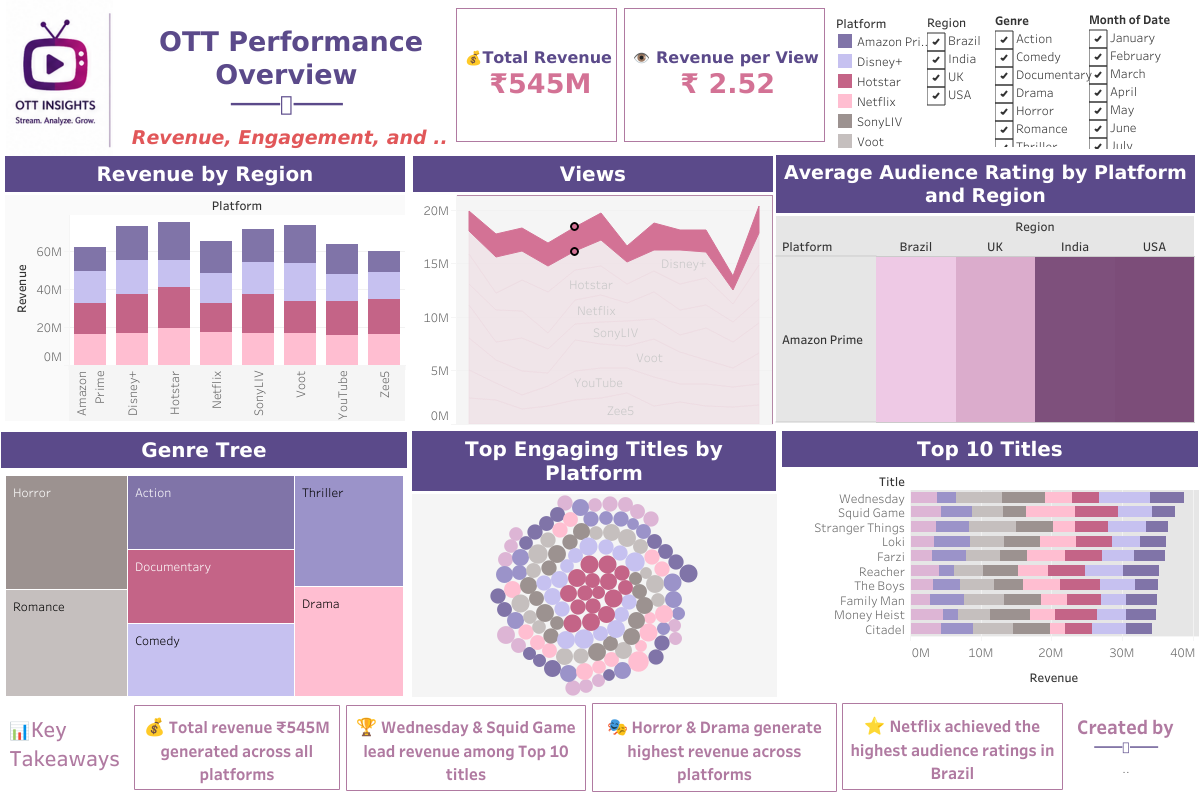

The dashboard page shown, as its layout file describes it:
{"tool":"tableau","page":{"name":"Dashboard 1","canvas":[1000,1000],"units":"permille","ordinal":0},"visuals":[{"type":"text","box":[1.8,6.2,266.4,201.2]},{"type":"filter","title":"Views","param":"[federated.07yf63z0haxw3a1d0bdrx1rfx7md].[mn:Date:ok]","box":[610.7,6.2,76.6,198.8]},{"type":"filter","title":"Revenue by Region","param":"[federated.07yf63z0haxw3a1d0bdrx1rfx7md].[none:Region:nk]","box":[690.4,6.2,55.9,198.8]},{"type":"filter","title":"Revenue by Region","param":"[federated.07yf63z0haxw3a1d0bdrx1rfx7md].[none:Genre:nk]","box":[750.2,6.2,85.1,197.5]},{"type":"worksheet","title":"Total Revenue","mark":"Automatic","box":[271.1,35,167.9,171.2]},{"type":"worksheet","title":"Revenue","mark":"Automatic","box":[441.4,35,166.8,171.2]},{"type":"worksheet","title":"Views","mark":"Automatic","rows":["Views"],"cols":["Date"],"box":[274,210,289.3,350]},{"type":"worksheet","title":"Revenue by Region","mark":"Automatic","rows":["Revenue"],"cols":["Platform"],"box":[0.6,211,272.4,350.8]},{"type":"worksheet","title":"Top 10 Titles","mark":"Automatic","rows":["Title"],"cols":["Revenue"],"box":[566.5,211,270.6,349.6]},{"type":"worksheet","title":"Top Engaging Titles by Platform","mark":"Circle","box":[285.8,563.8,264.6,426.2]},{"type":"worksheet","title":"Average Audience Rating by Platform and Region","mark":"Automatic","rows":["Platform"],"cols":["Region"],"box":[552.7,563.8,285.2,425]}]}

Visuals, with their boxes on the dashboard's canvas, which has no fixed pixel size, in thousandths of its width and height (x1, y1, x2, y2). These are canvas units, not pixel positions in the 1199x799 screenshot, which may show the page scaled, cropped or inside an application window:
text: <bbox>2, 6, 268, 207</bbox>
"Views" filter: <bbox>611, 6, 687, 205</bbox>
"Revenue by Region" filter: <bbox>690, 6, 746, 205</bbox>
"Revenue by Region" filter: <bbox>750, 6, 835, 204</bbox>
"Total Revenue" worksheet: <bbox>271, 35, 439, 206</bbox>
"Revenue" worksheet: <bbox>441, 35, 608, 206</bbox>
"Views" worksheet: <bbox>274, 210, 563, 560</bbox>
"Revenue by Region" worksheet: <bbox>1, 211, 273, 562</bbox>
"Top 10 Titles" worksheet: <bbox>566, 211, 837, 561</bbox>
"Top Engaging Titles by Platform" worksheet (Circle marks): <bbox>286, 564, 550, 990</bbox>
"Average Audience Rating by Platform and Region" worksheet: <bbox>553, 564, 838, 989</bbox>
